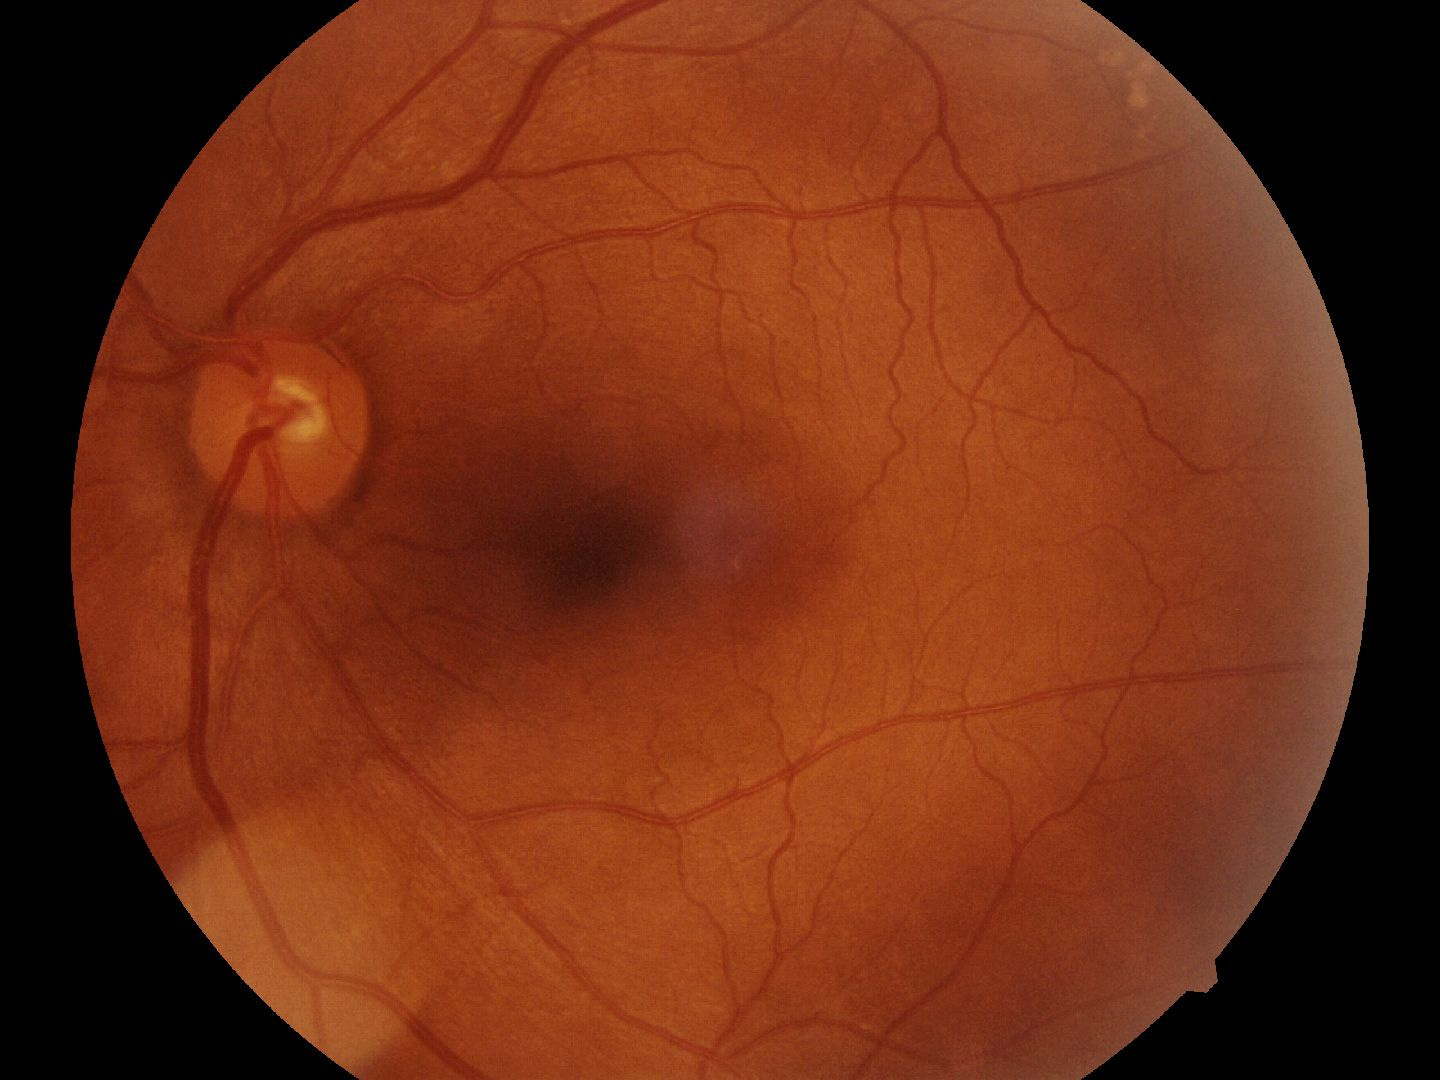Hemorrhages: (508, 445, 678, 639)
Optic-Disc: (190, 334, 373, 529)
Venules: (283, 104, 562, 235), (185, 585, 259, 902)
